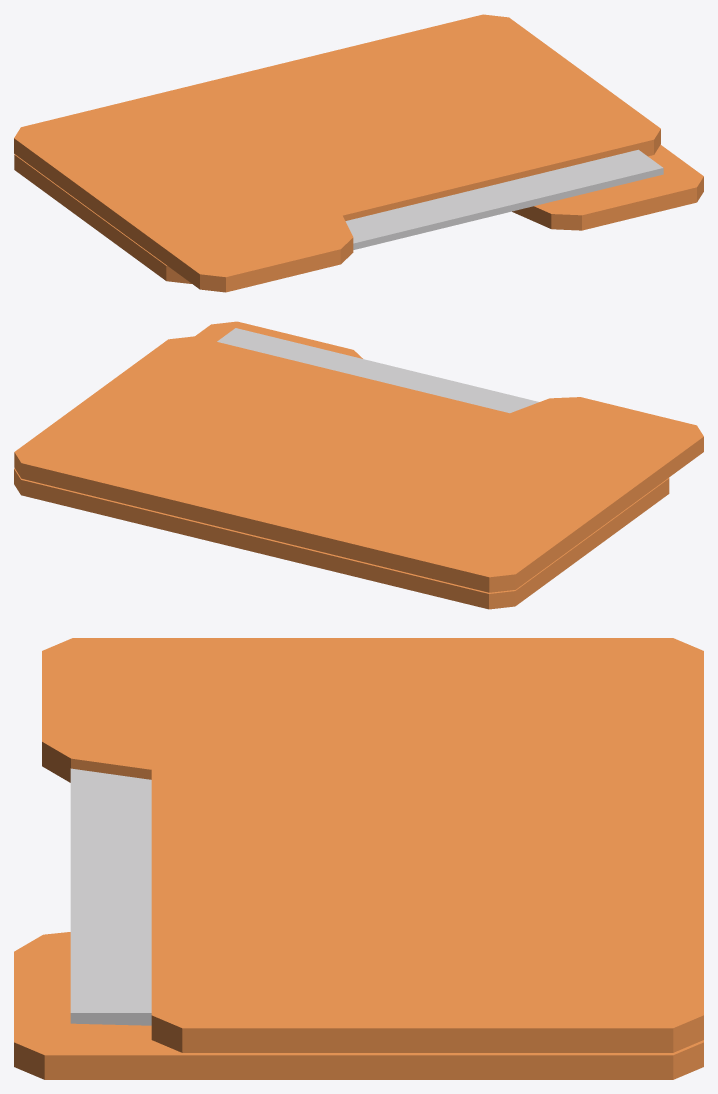
File: SM_Notepad_01.glb
3 renders of one model, top to bottom at view 1: azimuth 30°, elevation 25°; view 2: azimuth 150°, elevation 25°; view 3: azimuth 270°, elevation 25°, orthographic. The views are drawn at different scales.
Parts seen in each view (by area): view 1: SM_Notepad_01; view 2: SM_Notepad_01; view 3: SM_Notepad_01.
Boxes of the visible parts, x1,y1,x2,y2 form: SM_Notepad_01: (14, 14, 703, 292); SM_Notepad_01: (14, 321, 703, 609); SM_Notepad_01: (14, 638, 703, 1079).
Bounding box in the file's own units: 0.3957 × 0.0243 × 0.2955.
1 material, 1 textured.
